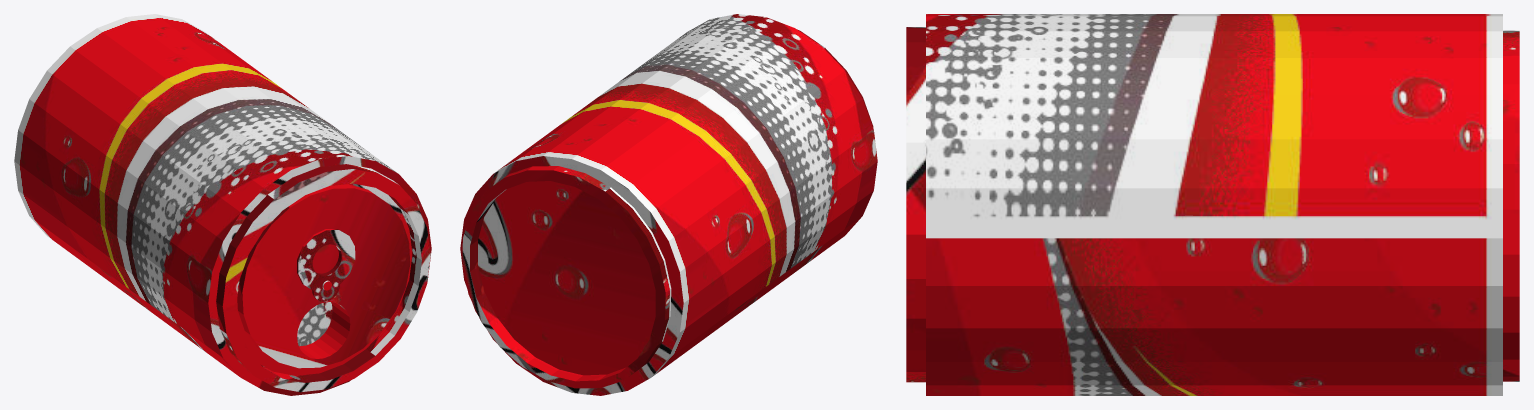
File: can.obj
The picture shows the model from 3 angles, left to right: view 1: azimuth 30°, elevation 25°; view 2: azimuth 150°, elevation 25°; view 3: azimuth 270°, elevation 25°; orthographic projection. The views are drawn at different scales.
Parts seen in each view (by area): view 1: Can_Can.002; view 2: Can_Can.002; view 3: Can_Can.002.
Part boxes in pixels (bbox=[...]): Can_Can.002: bbox=[14, 14, 431, 395]; Can_Can.002: bbox=[460, 14, 877, 395]; Can_Can.002: bbox=[906, 14, 1519, 395].
Size of the model in its own units: 0.05 by 0.05 by 0.08.
